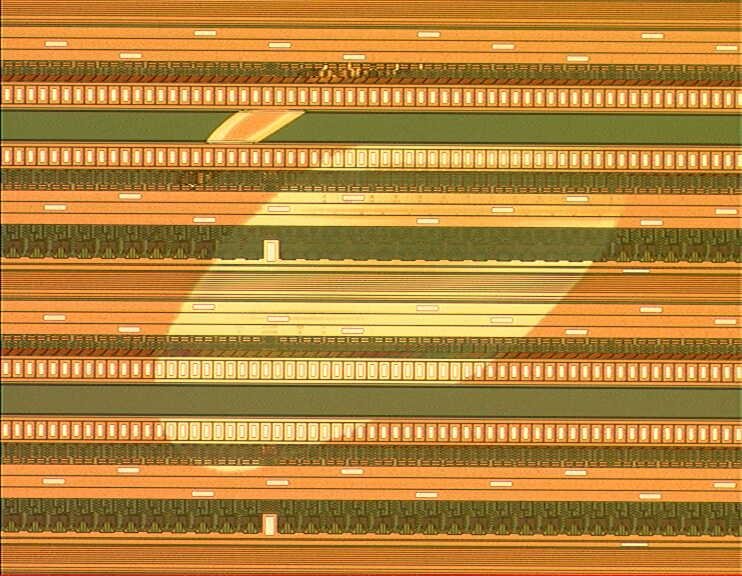COATING BAD: (146, 103, 665, 479)
